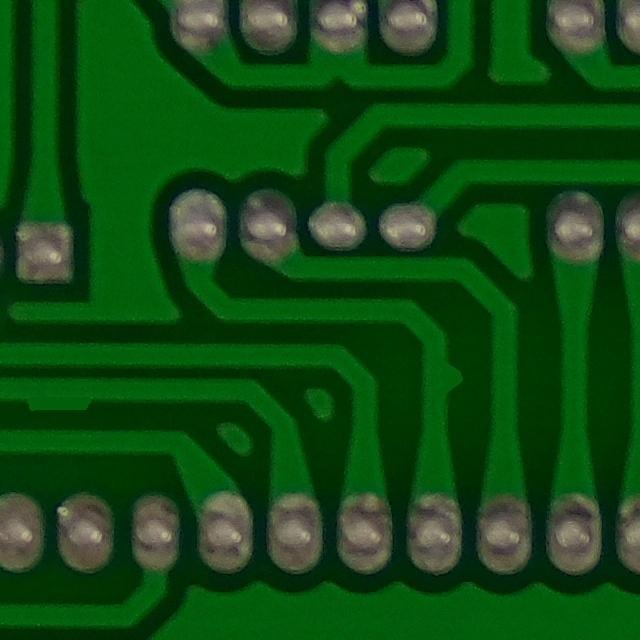spur: (2, 363, 104, 422), (411, 351, 473, 413)
